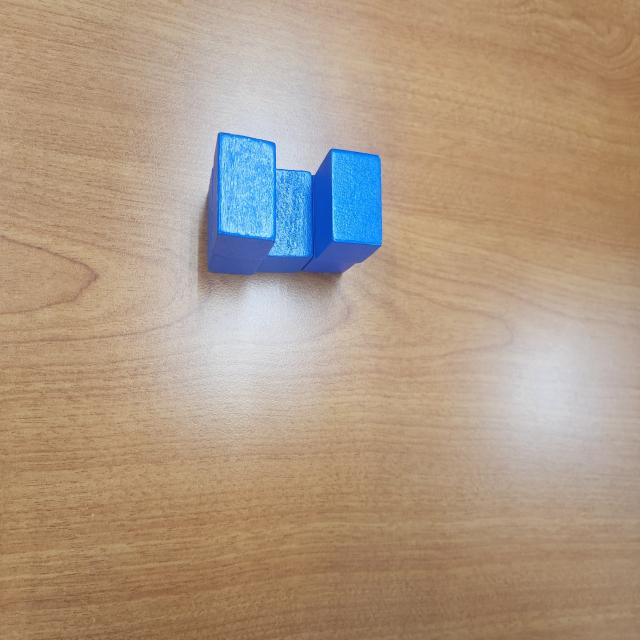blue: (212, 132, 276, 260), (313, 148, 383, 262), (204, 166, 266, 276), (256, 168, 314, 275), (301, 172, 356, 274)
